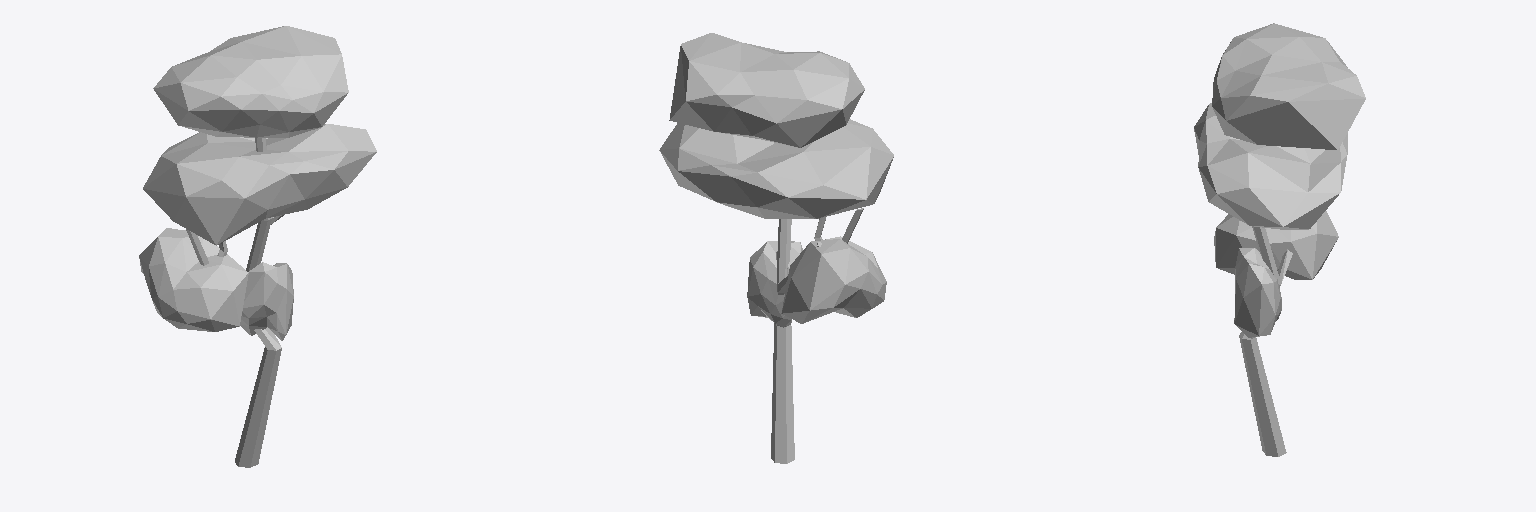
The model's file is Arbol3.obj.
The picture shows the model from 3 angles: view 1: azimuth 30°, elevation 25°; view 2: azimuth 150°, elevation 25°; view 3: azimuth 270°, elevation 25°; orthographic projection.
Visible parts, largest first — view 1: Tree_Type3_05_Model_Circle.371; view 2: Tree_Type3_05_Model_Circle.371; view 3: Tree_Type3_05_Model_Circle.371.
Part boxes in pixels (x1,y1,x2,y2): Tree_Type3_05_Model_Circle.371: (139,26,376,467); Tree_Type3_05_Model_Circle.371: (659,33,893,463); Tree_Type3_05_Model_Circle.371: (1194,23,1365,456).
Bounding box in the file's own units: 3.48 × 6.29 × 2.43.